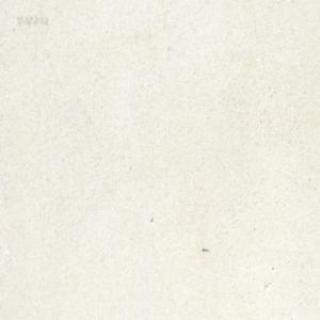Nailtrack_idkeyframe: (201, 246, 208, 251)
